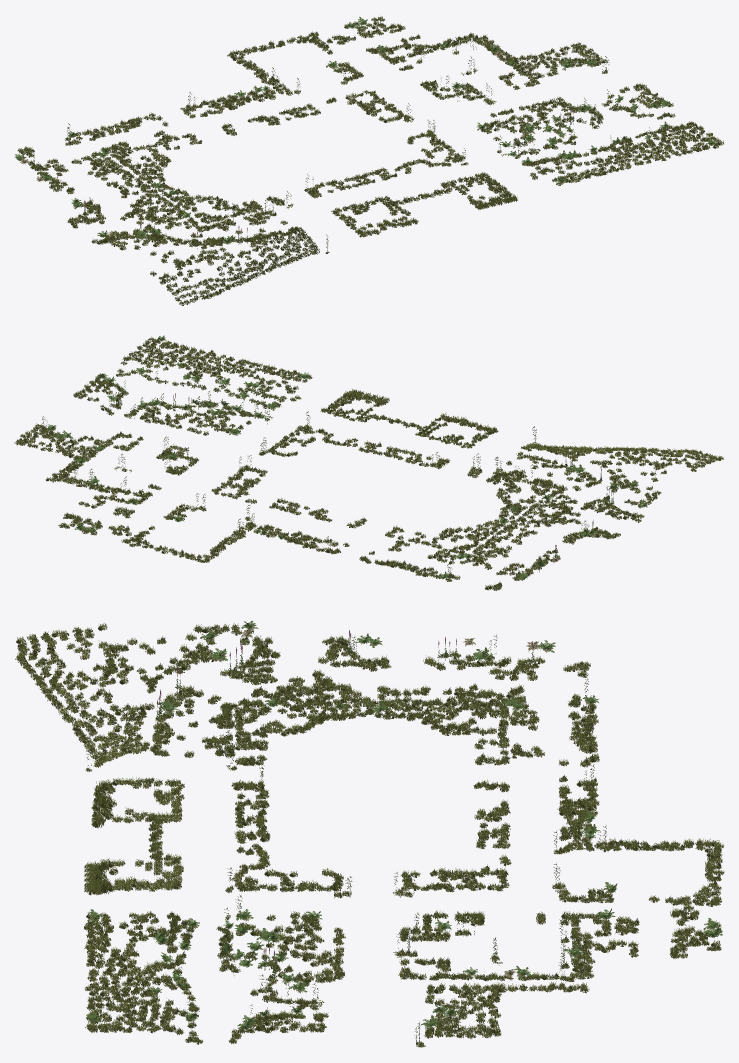
Rendered from Grass_Church.fbx.
3 views of the same model, one above another, from view 1: azimuth 30°, elevation 25°; view 2: azimuth 150°, elevation 25°; view 3: azimuth 270°, elevation 25° (orthographic). The views are drawn at different scales.
Bounding box in the file's own units: 8217 × 390 × 6147.
